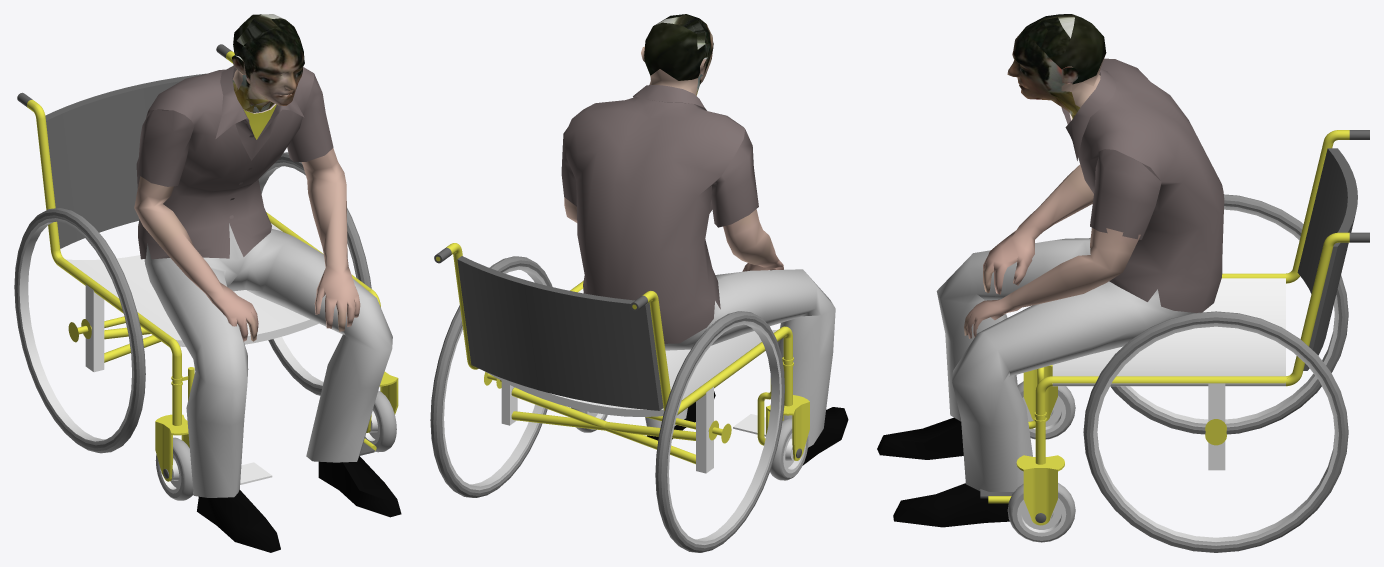
The model's file is vladimirjrplaymatedition.fbx.
3 renders of one model, left to right at view 1: azimuth 30°, elevation 25°; view 2: azimuth 150°, elevation 25°; view 3: azimuth 270°, elevation 25°, orthographic. The views are drawn at different scales.
Parts seen in each view (by area): view 1: Cadeira de Rodas_001, Group_007, Group_008, Group_005, Group_009; view 2: Cadeira de Rodas_001, Group_008, Group_007, Group_005, Group_009; view 3: Cadeira de Rodas_001, Group_008, Group_007, Group_005, Group_009.
Boxes of the visible parts, bbox=[...] form: Cadeira de Rodas_001: bbox=[14, 44, 398, 500]; Group_007: bbox=[144, 223, 392, 497]; Group_008: bbox=[136, 65, 333, 259]; Group_005: bbox=[134, 14, 360, 341]; Group_009: bbox=[197, 456, 401, 552]; Cadeira de Rodas_001: bbox=[430, 243, 809, 552]; Group_008: bbox=[561, 85, 758, 343]; Group_007: bbox=[645, 269, 835, 447]; Group_005: bbox=[564, 14, 783, 271]; Group_009: bbox=[647, 391, 848, 465]; Cadeira de Rodas_001: bbox=[980, 130, 1369, 552]; Group_008: bbox=[1061, 58, 1224, 312]; Group_007: bbox=[936, 238, 1194, 491]; Group_005: bbox=[964, 14, 1140, 338]; Group_009: bbox=[877, 417, 1009, 527].
Size of the model in its own units: 72.67 by 131 by 122.
